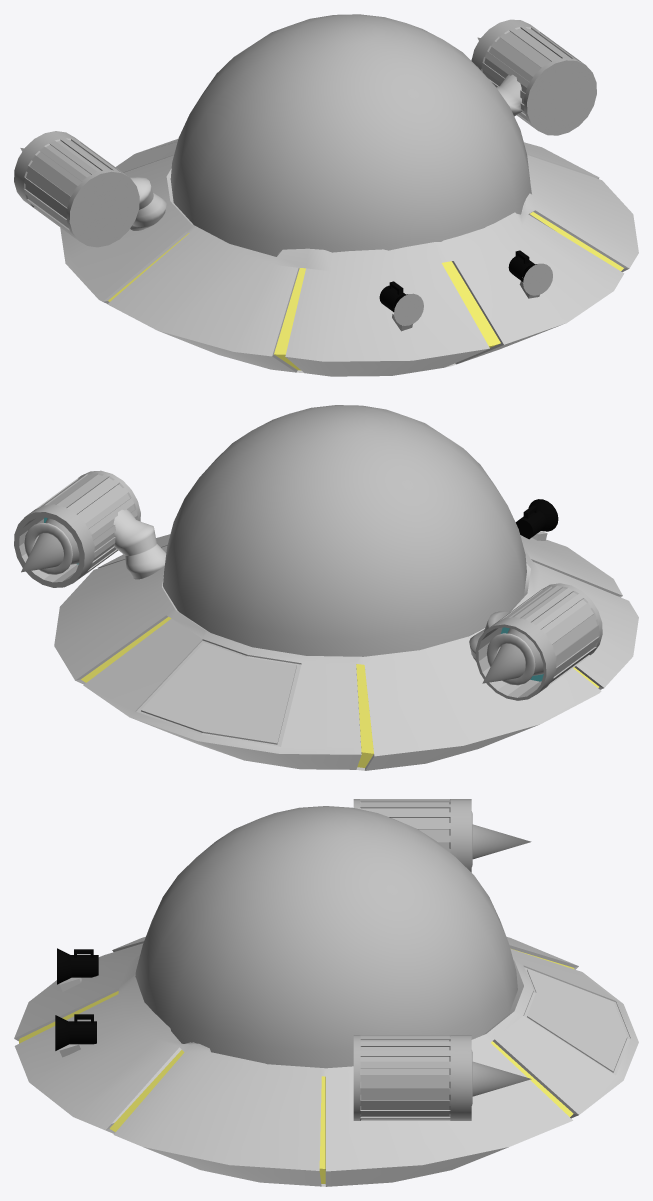
Rendered from naveFinal.fbx.
3 renders of one model, top to bottom at view 1: azimuth 30°, elevation 25°; view 2: azimuth 150°, elevation 25°; view 3: azimuth 270°, elevation 25°, orthographic. The views are drawn at different scales.
Visible parts, largest first — view 1: nave1; view 2: nave1; view 3: nave1.
Part boxes in pixels (bbox=[...]): nave1: bbox=[14, 14, 638, 376]; nave1: bbox=[14, 405, 638, 770]; nave1: bbox=[14, 799, 638, 1186].
Size of the model in its own units: 393 by 186 by 382.
